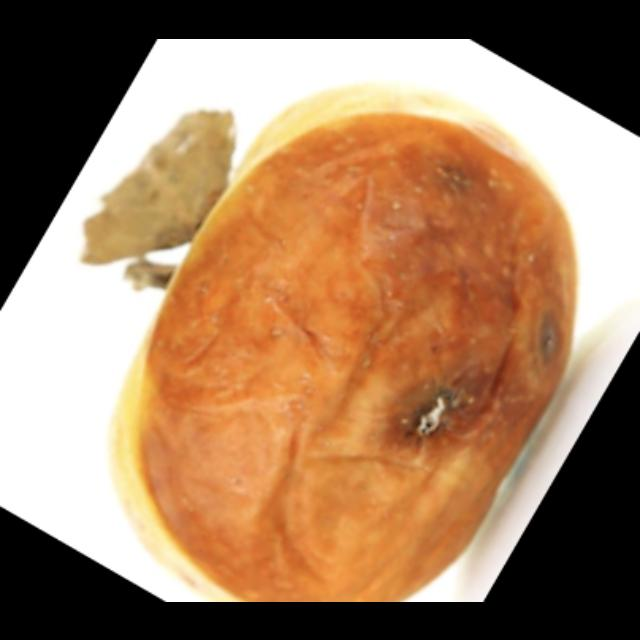Apel Tidak Segar: (122, 85, 578, 597)
